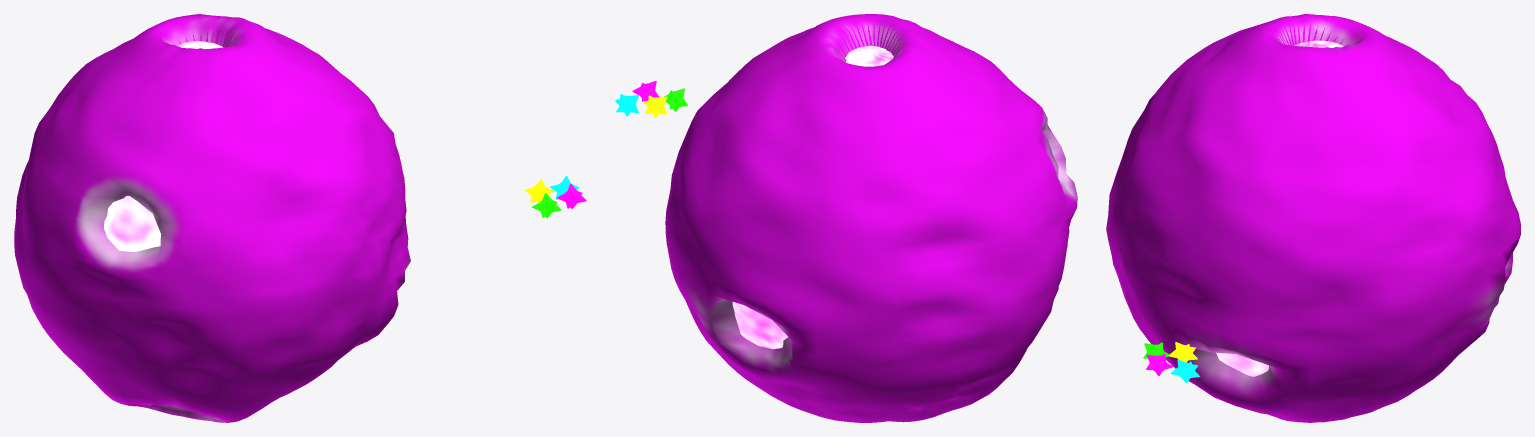
The model's file is theinfinitecosmosskybox.fbx.
3 renders of one model, left to right at view 1: azimuth 30°, elevation 25°; view 2: azimuth 150°, elevation 25°; view 3: azimuth 270°, elevation 25°, orthographic. The views are drawn at different scales.
Visible parts, largest first — view 1: Planet, LavaSphere; view 2: Planet, LavaSphere; view 3: Planet, LavaSphere.
Boxes of the visible parts, x1,y1,x2,y2 form: Planet: (14,14,410,422); LavaSphere: (104,41,223,251); Planet: (665,14,1077,422); LavaSphere: (732,45,893,349); Planet: (1106,14,1520,422); LavaSphere: (1216,40,1343,376).
Size of what is drawn, in the model's own units: 4239 by 3143 by 3065.
6 materials, 2 textured.
